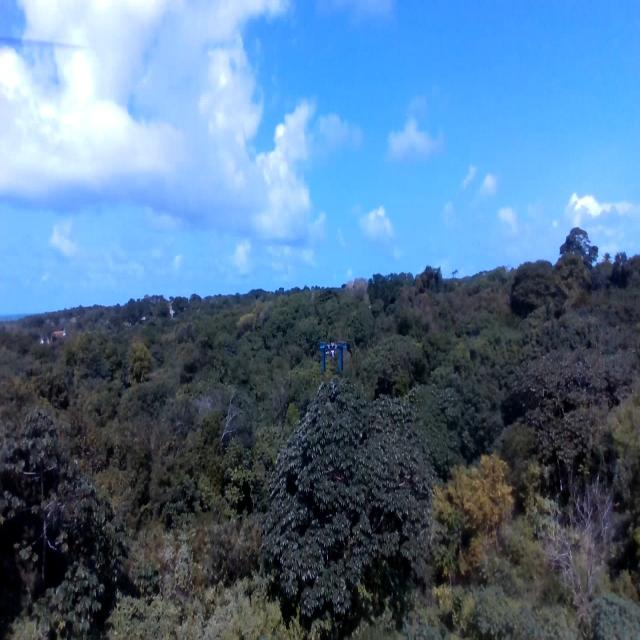-uav-: (312, 328, 351, 387)
